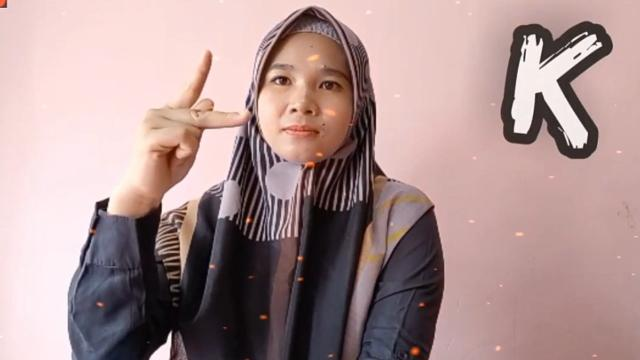K: (130, 50, 250, 192)
